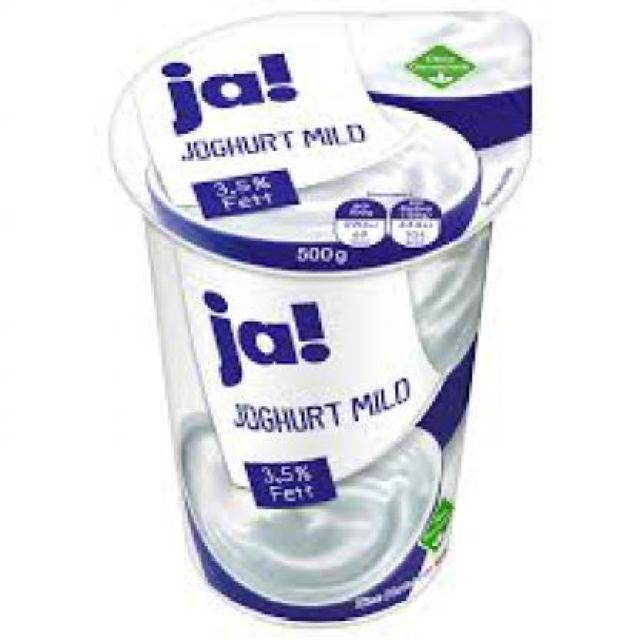PLASTIC: (105, 8, 529, 623)
